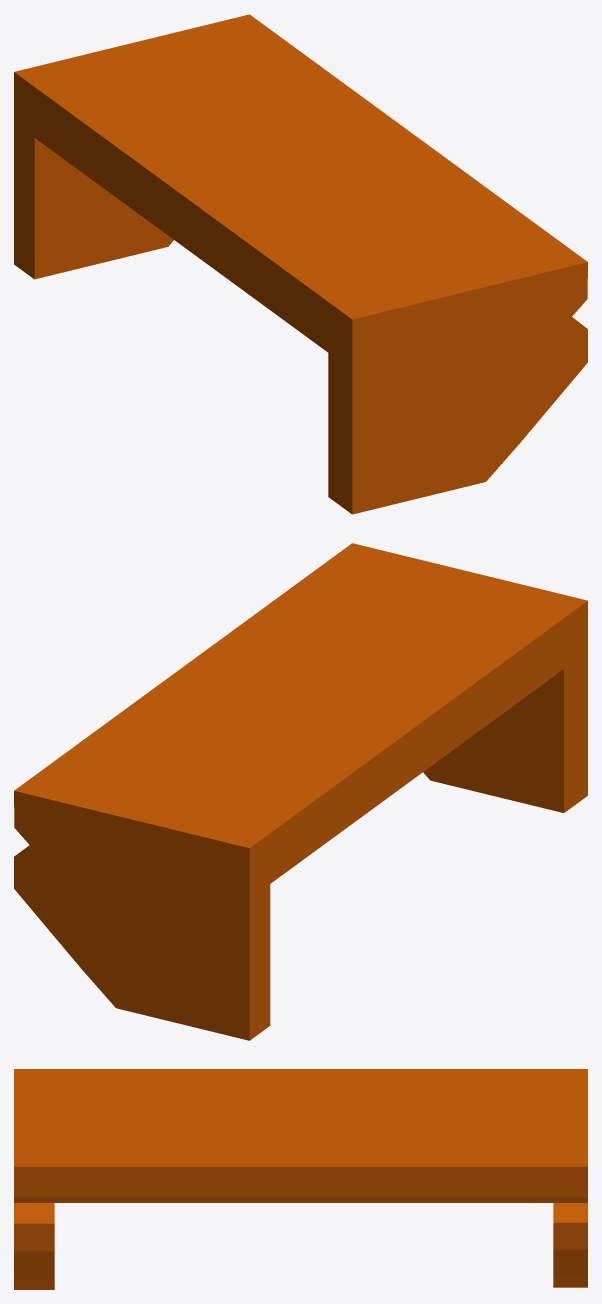
File: Furniture1.fbx
The picture shows the model from 3 angles, top to bottom: view 1: azimuth 30°, elevation 25°; view 2: azimuth 150°, elevation 25°; view 3: azimuth 270°, elevation 25°; orthographic projection. The views are drawn at different scales.
Visible parts, largest first — view 1: Cube; view 2: Cube; view 3: Cube.
Boxes of the visible parts, <box> form: Cube: <box>14,14,587,514</box>; Cube: <box>14,543,587,1040</box>; Cube: <box>14,1069,587,1289</box>.
Bounding box in the file's own units: 970 × 768 × 2413.
